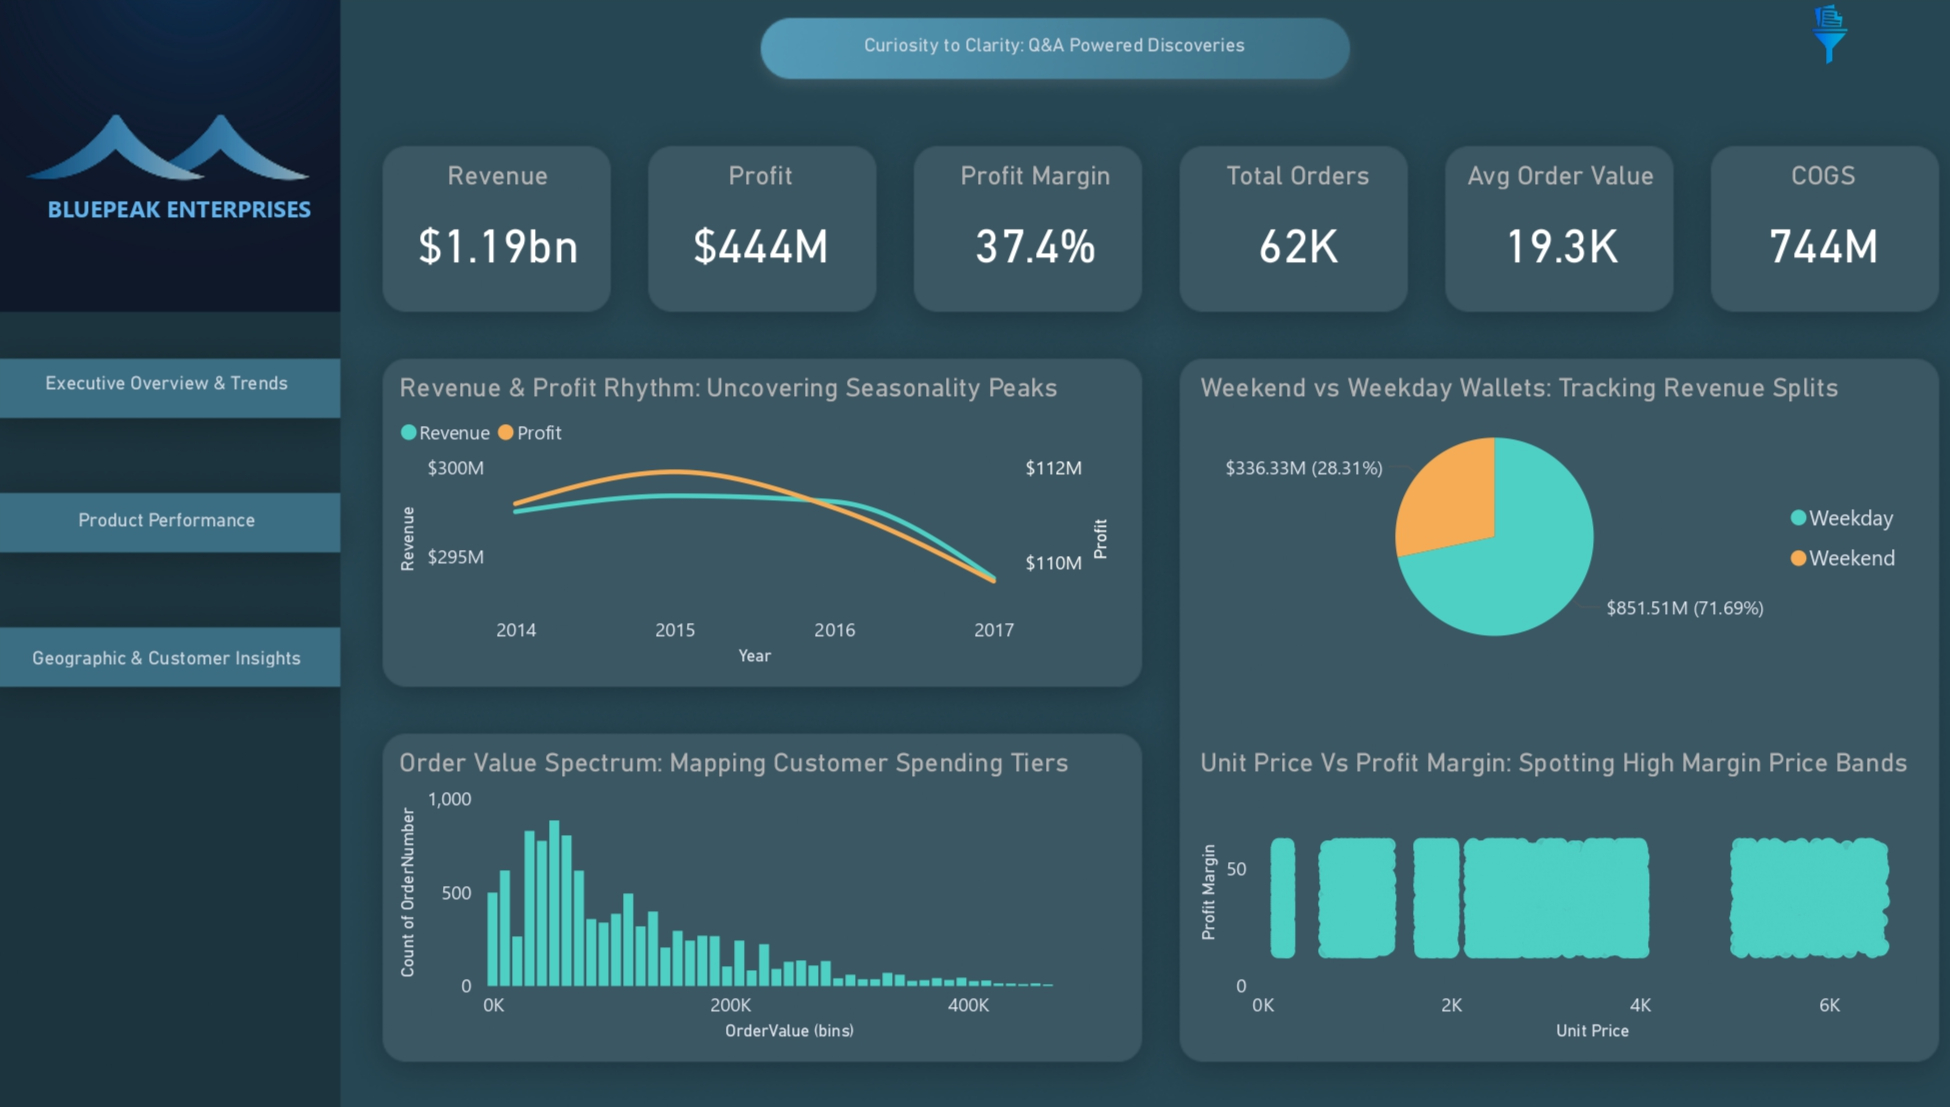

The page's visual inventory and layout, read from the dashboard file:
{"tool":"powerbi","page":{"name":"Executive Overview & Trends","canvas":[1260,720],"ordinal":0},"visuals":[{"type":"card","title":"Revenue","fields":{"Values":["Key Measures.Revenue"]},"box":[256,104,136,88],"z":0},{"type":"card","title":"Profit","fields":{"Values":["Key Measures.Profit"]},"box":[424,104,136,88],"z":1000},{"type":"card","title":"Profit Margin","fields":{"Values":["Key Measures.Profit Margin"]},"box":[600,104,136,88],"z":2000},{"type":"card","title":"Total Orders","fields":{"Values":["Key Measures.Total Orders"]},"box":[768,104,136,88],"z":3000},{"type":"card","title":"Avg Order Value","fields":{"Values":["Key Measures.Avg Order Value"]},"box":[936,104,136,88],"z":4000},{"type":"card","title":"COGS","fields":{"Values":["Key Measures.COGS"]},"box":[1104,104,136,88],"z":5000},{"type":"lineChart","title":"Revenue & Profit Rhythm: Uncovering Seasonality Peaks","fields":{"Category":["DimDate.Year Hierarchy.Year","DimDate.Year Hierarchy.Quarter","DimDate.Year Hierarchy.MonthYear"],"Y":["Key Measures.Revenue"],"Y2":["Key Measures.Profit"]},"box":[256,240,464,192],"z":6000},{"type":"clusteredColumnChart","title":"Order Value Spectrum: Mapping Customer Spending Tiers","fields":{"Category":["OrderValueDistribution.OrderValue (bins)"],"Y":["CountNonNull(OrderValueDistribution.OrderNumber)"]},"box":[256,480,464,192],"z":7000},{"type":"scatterChart","title":"Unit Price Vs Profit Margin: Spotting High Margin Price Bands","fields":{"X":["FactSales.Unit Price"],"Y":["FactSales.Profit Margin"]},"box":[768,480,480,192],"z":8000},{"type":"pieChart","title":"Weekend vs Weekday Wallets: Tracking Revenue Splits","fields":{"Y":["Key Measures.Revenue"],"Category":["DimDate.DayType"]},"box":[768,240,464,192],"z":9000},{"type":"actionButton","title":"Curiosity to Clarity: Q&A Powered Discoveries","box":[512,24,336,56],"z":10000},{"type":"textbox","box":[24,120,192,32],"z":11000},{"type":"actionButton","title":"Executive Overview & Trends","box":[0,240,224,40],"z":12000},{"type":"actionButton","title":"Product Performance","box":[0,328,224,40],"z":13000},{"type":"actionButton","title":"Geographic & Customer Insights","box":[0,416,224,40],"z":14000},{"type":"image","title":"Filter","box":[1136,0,80,48],"z":16000}]}

Visuals, with their boxes in screenshot pixels (x1, y1, x2, y2), scaled from the page's 1260x720 canvas onto the 1950x1107 screenshot:
"Revenue" card: bbox=(396, 160, 607, 295)
"Profit" card: bbox=(656, 160, 867, 295)
"Profit Margin" card: bbox=(929, 160, 1139, 295)
"Total Orders" card: bbox=(1189, 160, 1399, 295)
"Avg Order Value" card: bbox=(1449, 160, 1659, 295)
"COGS" card: bbox=(1709, 160, 1919, 295)
"Revenue & Profit Rhythm: Uncovering Seasonality Peaks" lineChart: bbox=(396, 369, 1114, 664)
"Order Value Spectrum: Mapping Customer Spending Tiers" clusteredColumnChart: bbox=(396, 738, 1114, 1033)
"Unit Price Vs Profit Margin: Spotting High Margin Price Bands" scatterChart: bbox=(1189, 738, 1931, 1033)
"Weekend vs Weekday Wallets: Tracking Revenue Splits" pieChart: bbox=(1189, 369, 1907, 664)
"Curiosity to Clarity: Q&A Powered Discoveries" actionButton: bbox=(792, 37, 1312, 123)
textbox: bbox=(37, 184, 334, 234)
"Executive Overview & Trends" actionButton: bbox=(0, 369, 347, 430)
"Product Performance" actionButton: bbox=(0, 504, 347, 566)
"Geographic & Customer Insights" actionButton: bbox=(0, 640, 347, 701)
"Filter" image: bbox=(1758, 0, 1882, 74)
